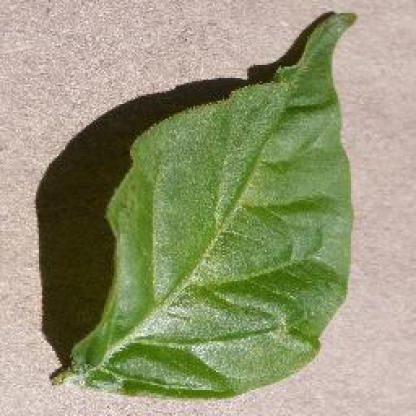good leaf: (51, 22, 378, 414)
